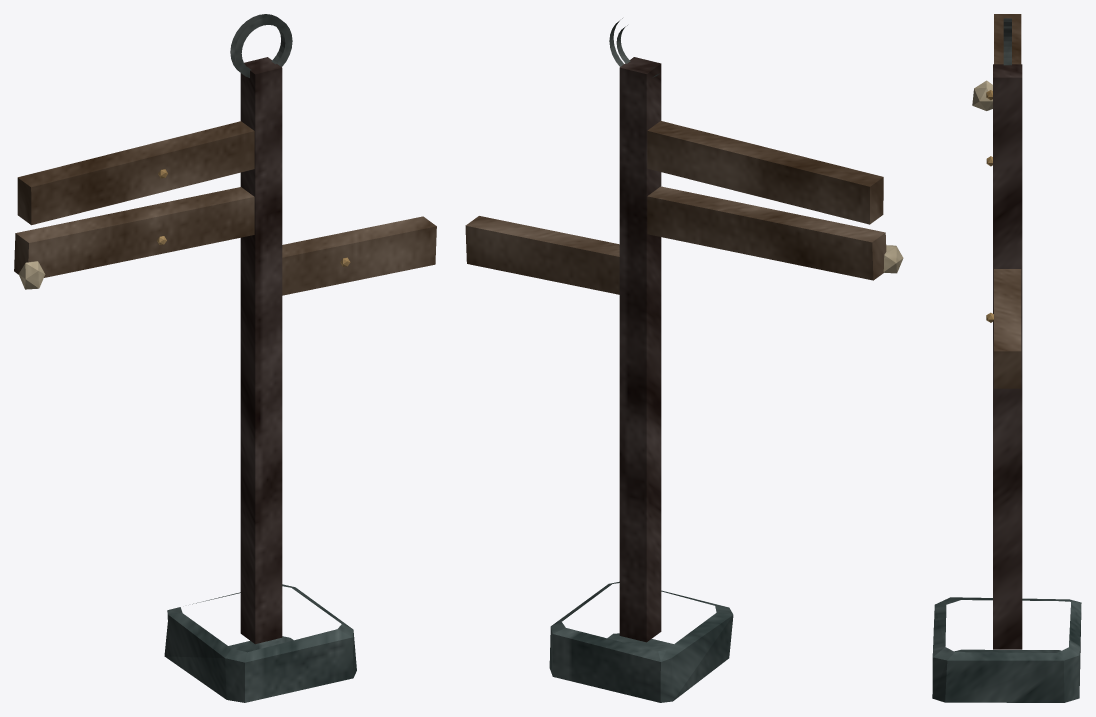
The model's file is 0627_signpost_02.glb.
3 views of the same model, side by side, from view 1: azimuth 30°, elevation 25°; view 2: azimuth 150°, elevation 25°; view 3: azimuth 270°, elevation 25° (orthographic).
Parts seen in each view (by area): view 1: wood, wood_dark, stone_dark, iron; view 2: wood, wood_dark, stone_dark; view 3: wood_dark, stone_dark, wood, bone, iron.
Boxes of the visible parts, x1,y1,x2,y2 form: wood: (14,121,436,295); wood_dark: (240,57,282,644); stone_dark: (164,584,356,702); iron: (230,14,292,77); wood: (465,121,886,294); wood_dark: (619,57,661,642); stone_dark: (549,581,733,702); wood_dark: (993,64,1022,649); stone_dark: (932,597,1081,702); wood: (994,14,1021,388); bone: (972,80,992,110); iron: (1003,18,1011,65).
Bounding box in the file's own units: 2.31 × 3.43 × 0.7088.
Materials: 6 (6 with a texture image).
